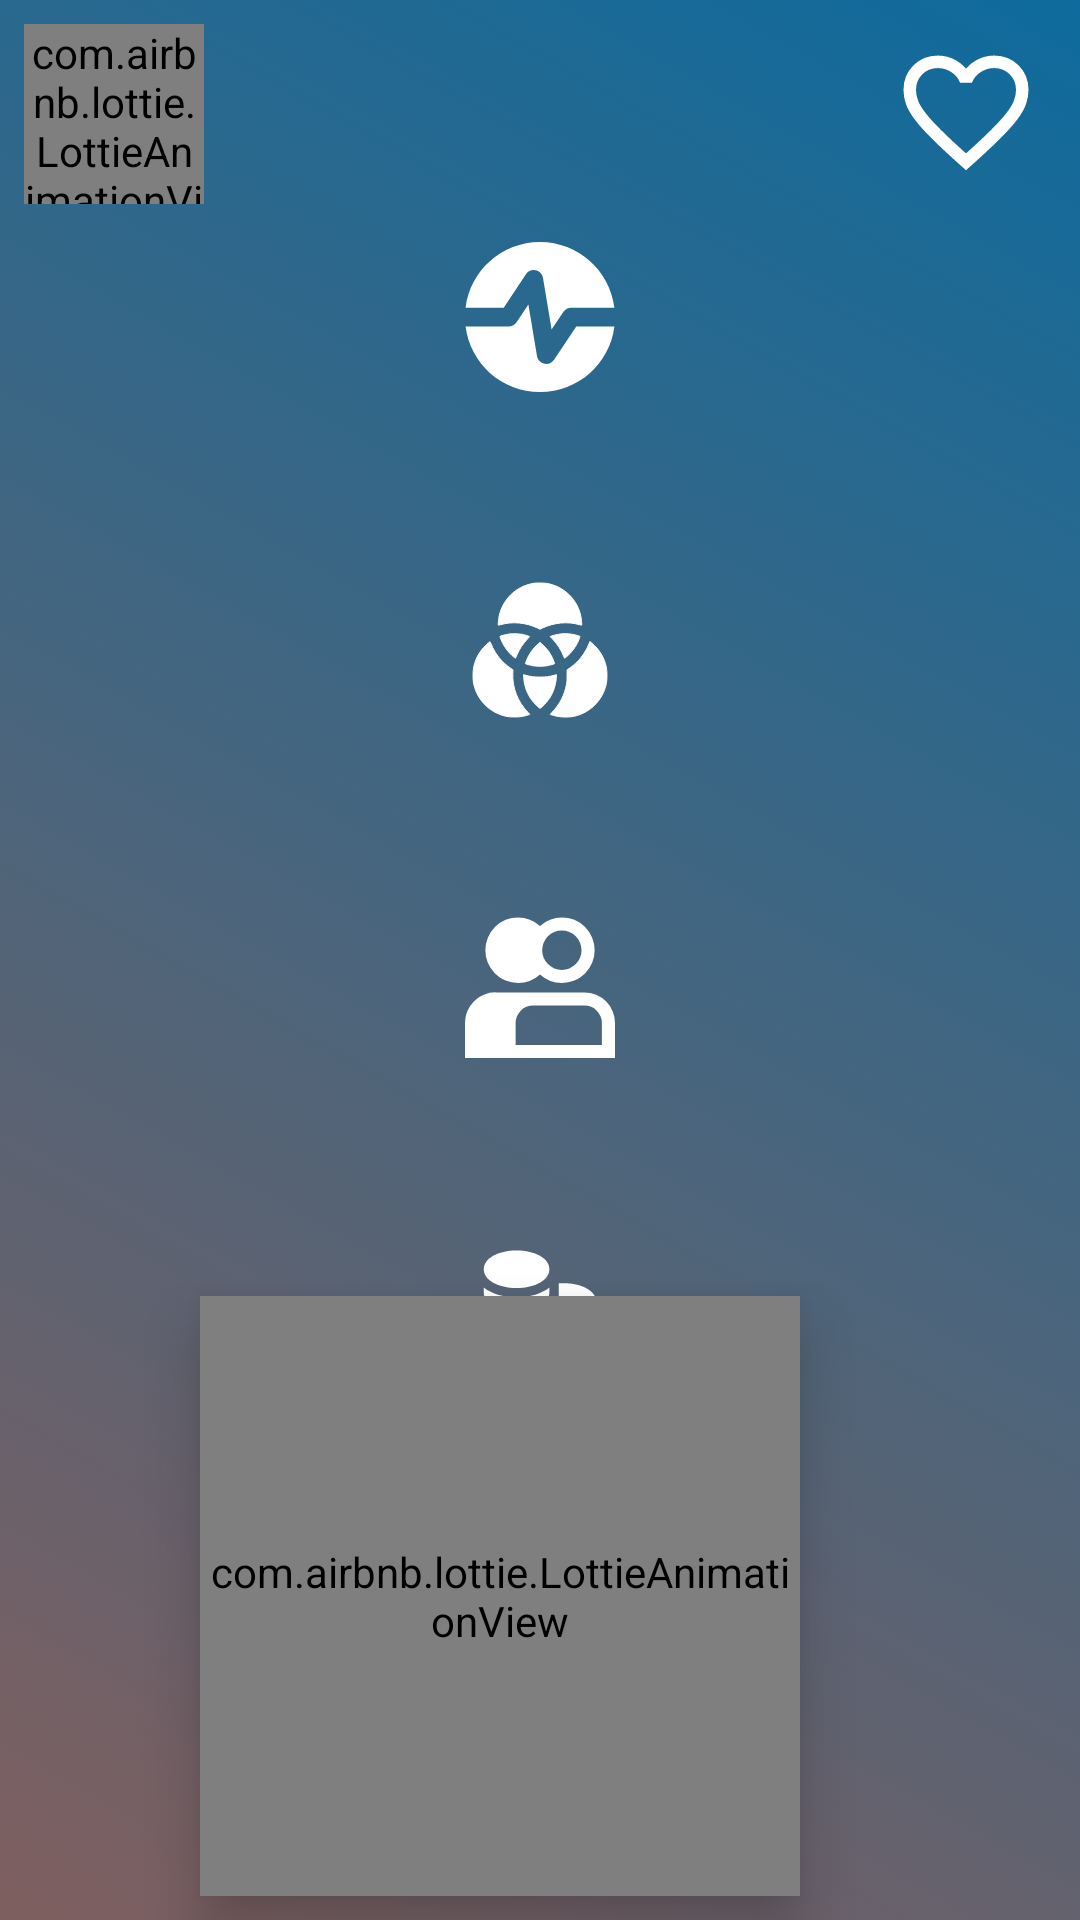

Named icons in this screenshot (1080×1920) and their bounding boxes, Rect(x1, y1, x2, y2):
favorite empty: Rect(903, 55, 1029, 170)
participants: Rect(465, 917, 615, 1058)
types: Rect(472, 582, 608, 718)
